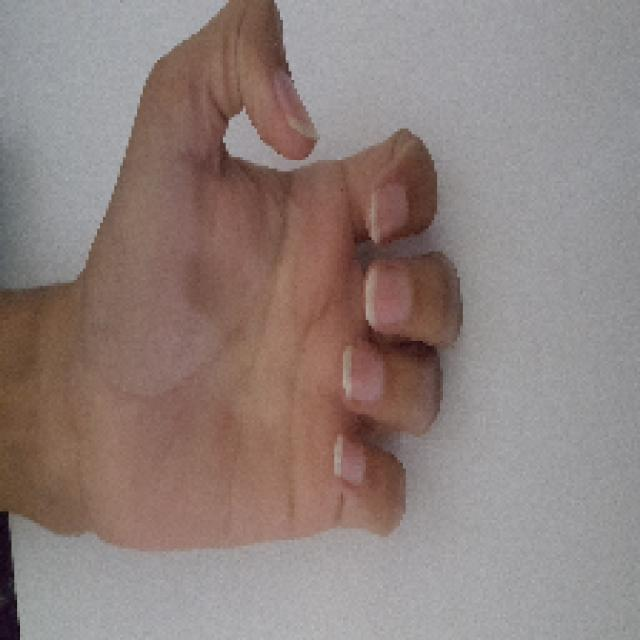Nail: (272, 70, 318, 139), (365, 269, 412, 326), (370, 182, 409, 244), (342, 346, 385, 401), (334, 434, 366, 486)
